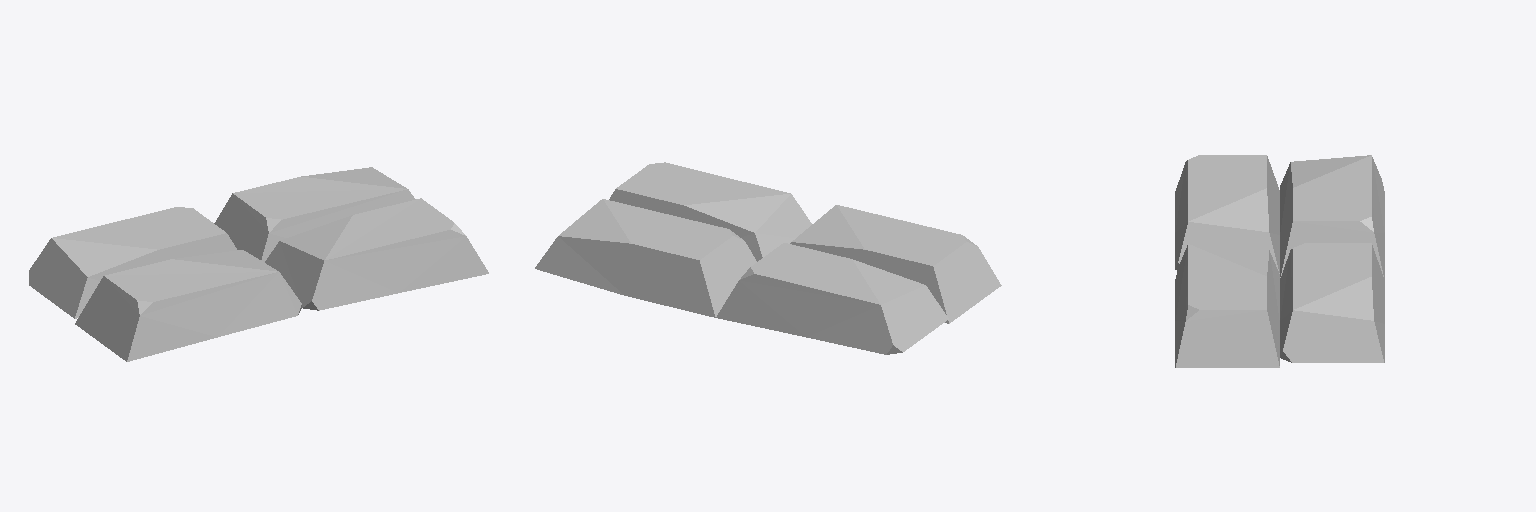
The model's file is Gold-20.obj.
3 views of the same model, side by side, from view 1: azimuth 30°, elevation 25°; view 2: azimuth 150°, elevation 25°; view 3: azimuth 270°, elevation 25° (orthographic).
Visible parts, largest first — view 1: Gold_20; view 2: Gold_20; view 3: Gold_20.
Part boxes in pixels (x1,y1,x2,y2): Gold_20: (29, 167, 488, 361); Gold_20: (535, 162, 1001, 354); Gold_20: (1175, 155, 1384, 367).
Bounding box in the file's own units: 0.3 × 0.0375 × 0.1501.